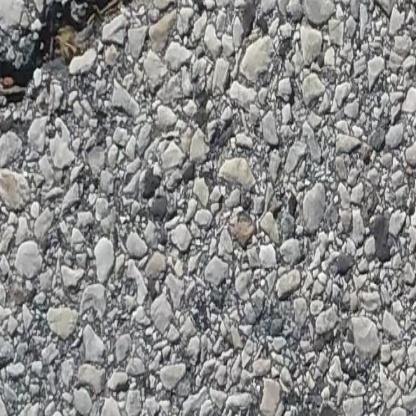Cracks: (0, 0, 156, 109)
